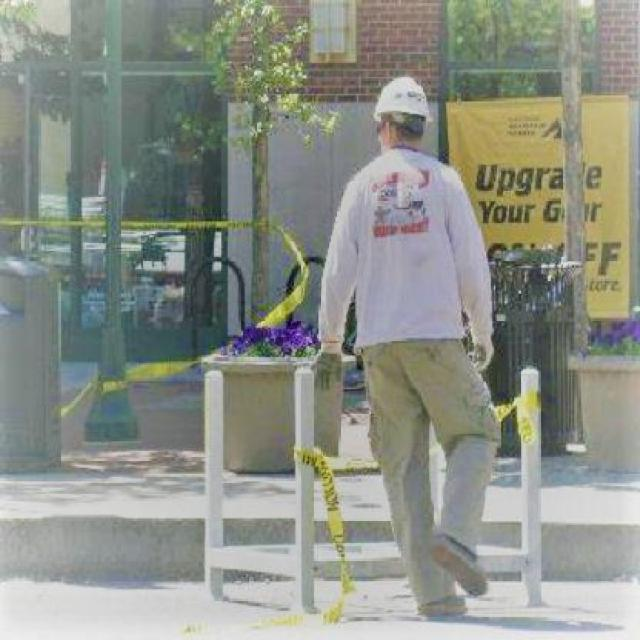Person: (311, 68, 497, 622)
